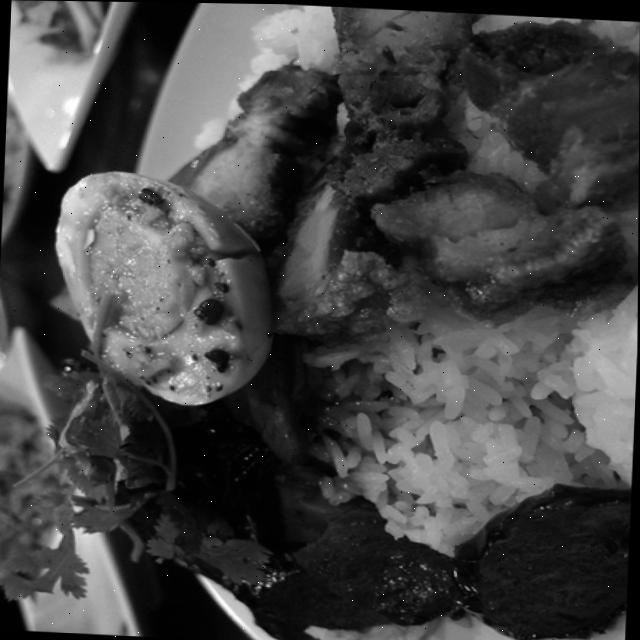猪肉菜式: (34, 0, 640, 638)
